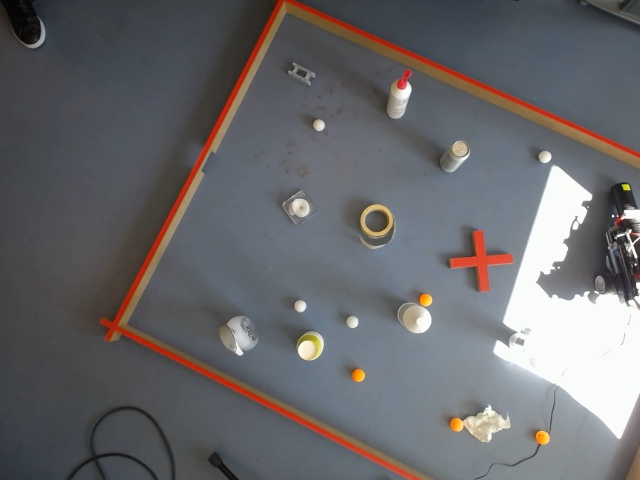orange: (418, 292, 434, 309), (534, 429, 550, 446), (351, 367, 366, 383), (449, 416, 463, 433)
white: (440, 138, 473, 175), (399, 302, 435, 335), (283, 194, 314, 226), (295, 331, 324, 362), (446, 139, 472, 171), (411, 308, 435, 336), (415, 302, 435, 333), (536, 148, 553, 166), (292, 298, 309, 315), (345, 314, 360, 331), (311, 118, 327, 133), (595, 275, 605, 291)
